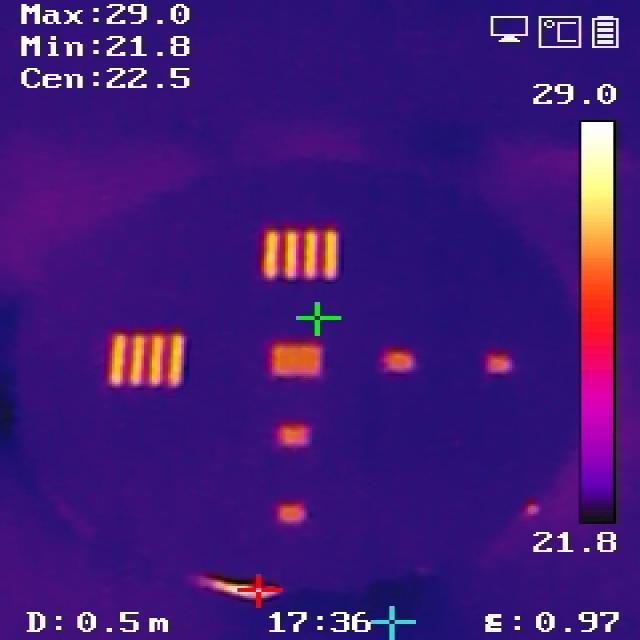Distinguishable 4-bar target: (257, 224, 343, 280), (107, 332, 189, 383)
Indistinguishable 4-bar target: (277, 343, 324, 373), (277, 421, 308, 444), (386, 348, 414, 370), (280, 506, 312, 522), (487, 356, 513, 372)
